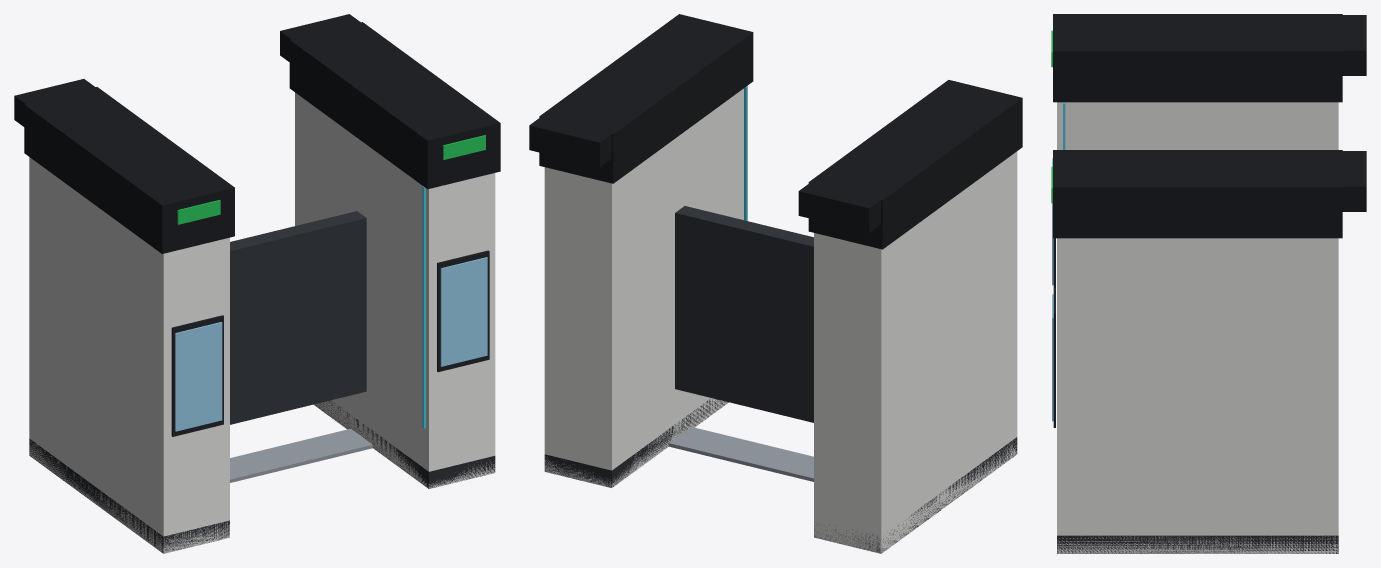
File: gate.obj
The picture shows the model from 3 angles, left to right: view 1: azimuth 30°, elevation 25°; view 2: azimuth 150°, elevation 25°; view 3: azimuth 270°, elevation 25°; orthographic projection. The views are drawn at different scales.
Parts seen in each view (by area): view 1: left_pillar, right_pillar, right_top_cover, left_top_cover, right_door_frame, left_door_frame, right_screen_face, left_screen_face, lane_base, left_base, right_base, right_screen_bezel (+6 smaller); view 2: left_pillar, right_pillar, right_door_frame, left_top_cover, right_top_cover, left_door_frame, lane_base, right_top_overhang, left_top_overhang, right_base, left_base; view 3: right_pillar, left_top_cover, right_top_cover, left_pillar, right_base, right_top_overhang, left_top_overhang, right_screen_bezel.
Part boxes in pixels (left/top/right/bottom): left_pillar: left=29, top=157, right=229, bottom=553; right_pillar: left=295, top=92, right=495, bottom=488; right_top_cover: left=289, top=22, right=500, bottom=189; left_top_cover: left=24, top=87, right=234, bottom=253; right_door_frame: left=258, top=211, right=366, bottom=415; left_door_frame: left=230, top=235, right=267, bottom=424; right_screen_face: left=440, top=257, right=487, bottom=366; left_screen_face: left=175, top=322, right=222, bottom=431; lane_base: left=230, top=428, right=372, bottom=482; left_base: left=29, top=438, right=229, bottom=552; right_base: left=315, top=400, right=495, bottom=488; right_screen_bezel: left=437, top=250, right=489, bottom=372; left_pillar: left=814, top=151, right=1017, bottom=553; right_pillar: left=544, top=85, right=747, bottom=487; right_door_frame: left=675, top=206, right=785, bottom=413; left_top_cover: left=808, top=80, right=1022, bottom=249; right_top_cover: left=539, top=14, right=753, bottom=183; left_door_frame: left=776, top=230, right=813, bottom=422; lane_base: left=668, top=426, right=813, bottom=481; right_top_overhang: left=529, top=115, right=613, bottom=167; left_top_overhang: left=798, top=182, right=883, bottom=232; right_base: left=544, top=399, right=728, bottom=487; left_base: left=814, top=437, right=1017, bottom=553; right_pillar: left=1057, top=238, right=1338, bottom=553; left_top_cover: left=1053, top=14, right=1342, bottom=102; right_top_cover: left=1053, top=150, right=1342, bottom=238; left_pillar: left=1057, top=102, right=1338, bottom=149; right_base: left=1057, top=535, right=1338, bottom=553; right_top_overhang: left=1336, top=151, right=1366, bottom=211; left_top_overhang: left=1336, top=15, right=1366, bottom=75; right_screen_bezel: left=1053, top=287, right=1055, bottom=427.
Size of what is drawn, in the model's own units: 1.28 by 1.26 by 0.98.
